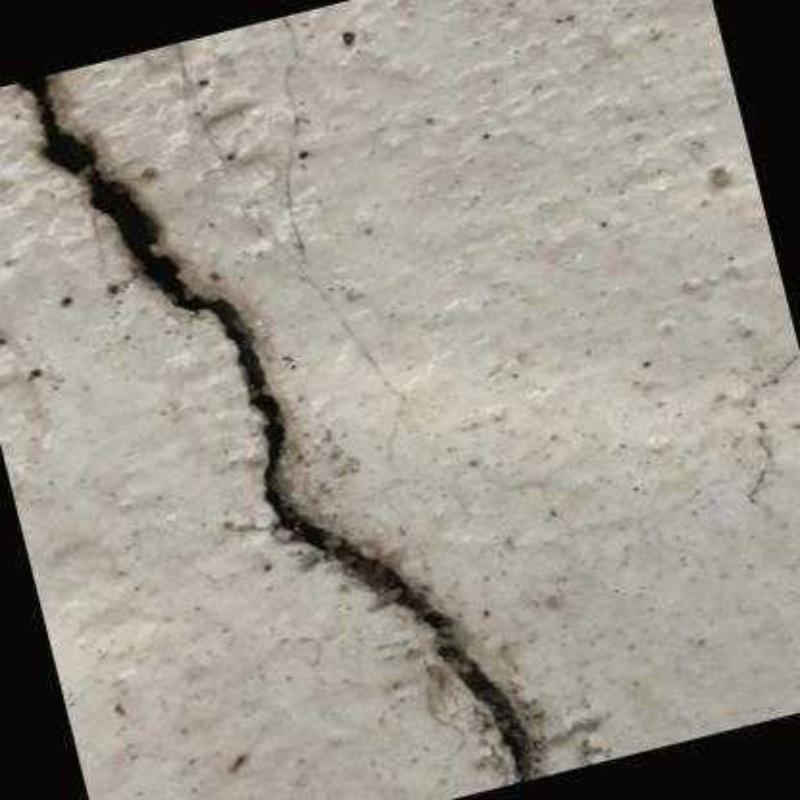crack: (14, 76, 527, 786)
